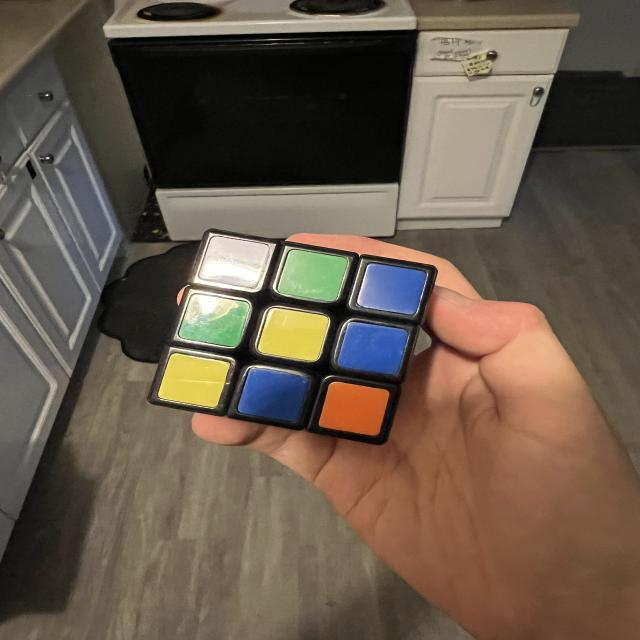blue: (236, 362, 310, 427), (354, 260, 429, 320), (337, 320, 409, 377)
center: (253, 304, 331, 365)
green: (174, 291, 253, 350), (277, 247, 349, 304)
orange: (318, 379, 391, 439)
white: (197, 231, 275, 293)
yellow: (253, 303, 331, 365), (157, 351, 231, 410)
